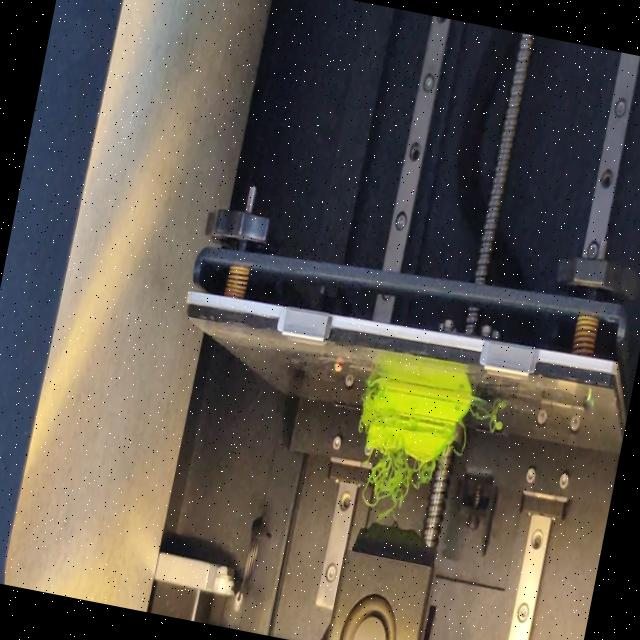spaghetti: (357, 443, 438, 528), (466, 400, 509, 435), (449, 418, 474, 462), (360, 374, 378, 392)
